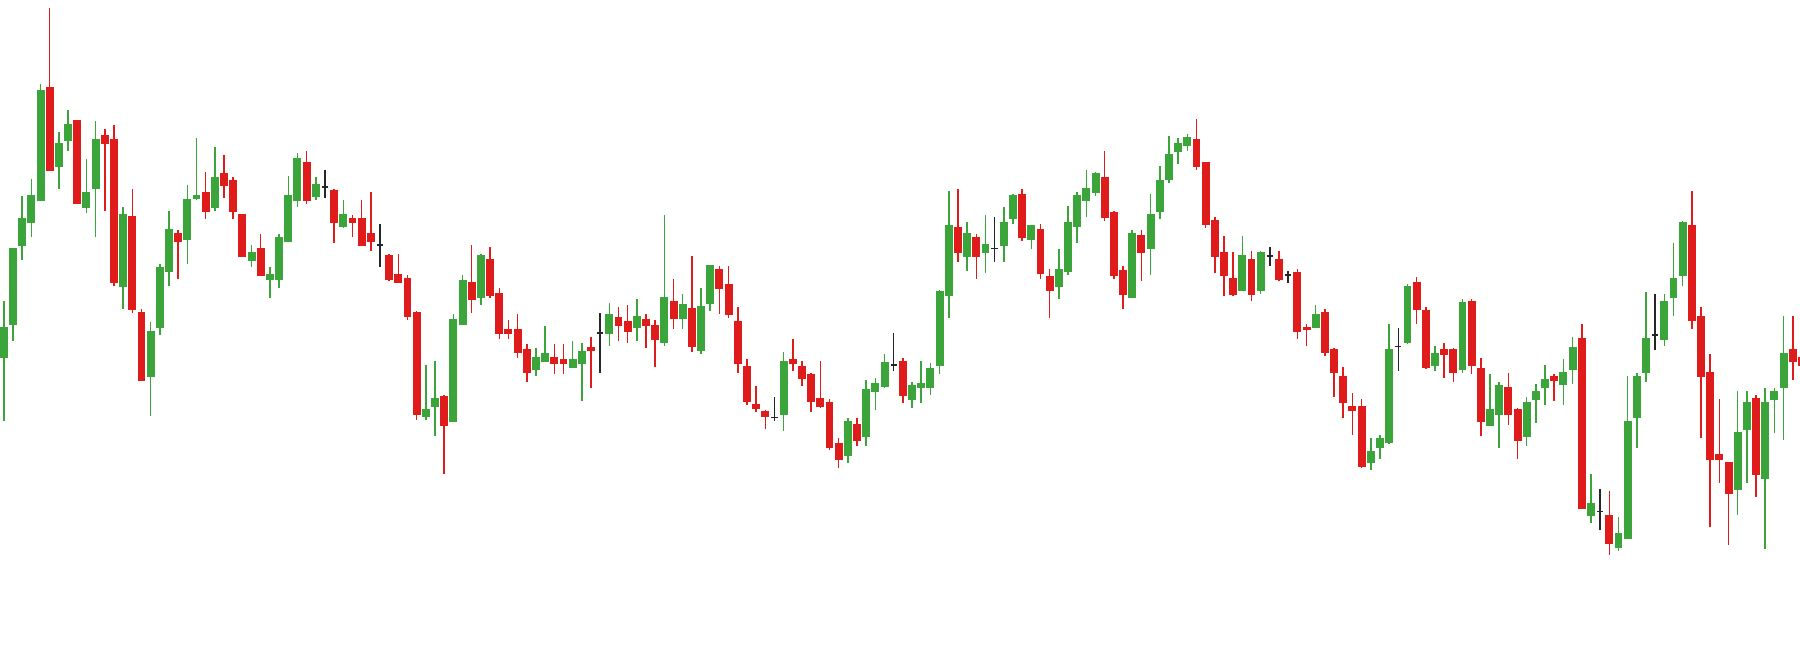buy: (145, 241, 439, 447), (760, 377, 853, 475)
sell: (1310, 277, 1425, 359), (1096, 121, 1201, 207)
